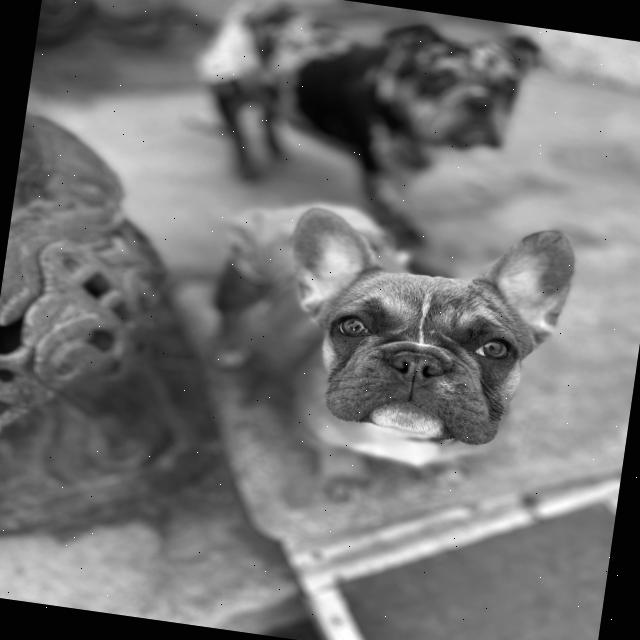french_bulldog_dog: (252, 179, 588, 494)
